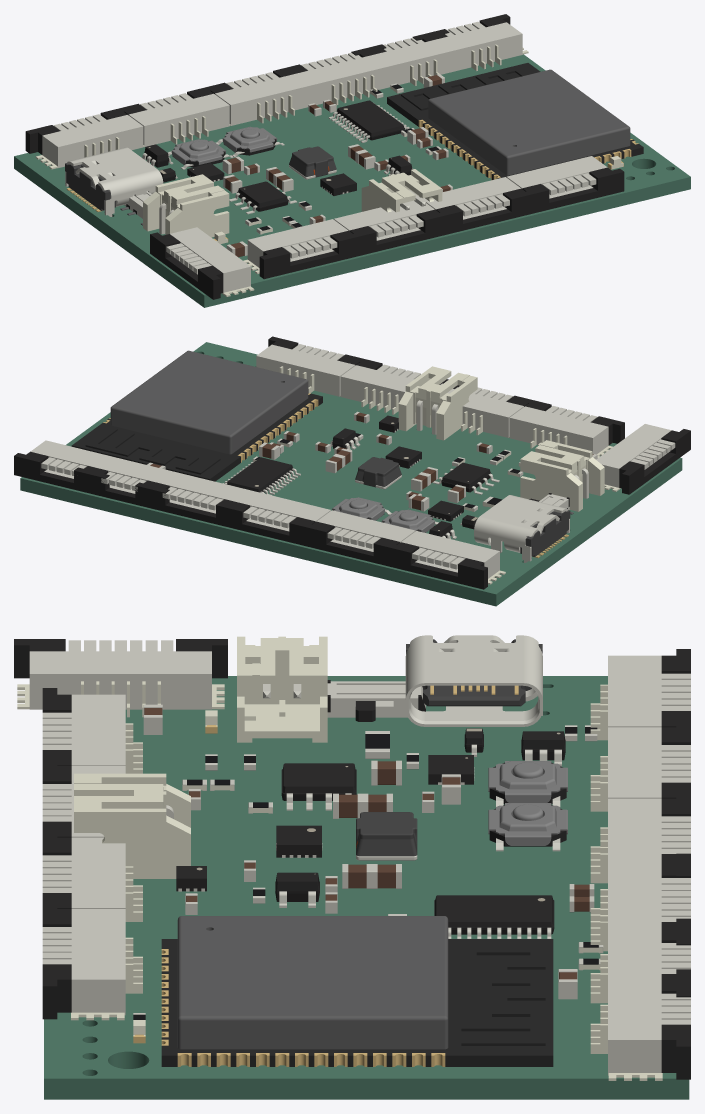
The model's file is petvest-hub.glb.
The picture shows the model from 3 angles, top to bottom: view 1: azimuth 30°, elevation 25°; view 2: azimuth 150°, elevation 25°; view 3: azimuth 270°, elevation 25°; orthographic projection. The views are drawn at different scales.
Parts seen in each view (by area): view 1: =>[0:1:1:46], =>[0:1:1:43] (×7), =>[0:1:1:37], =>[0:1:1:9] (×2), =>[0:1:1:7] (×2), =>[0:1:1:45] (×2), =>[0:1:1:3], =>[0:1:1:39] (×2), =>[0:1:1:41], =>[0:1:1:19], =>[0:1:1:27], =>[0:1:1:25] (+1 smaller); view 2: =>[0:1:1:46], =>[0:1:1:43] (×7), =>[0:1:1:37], =>[0:1:1:7] (×2), =>[0:1:1:9] (×2), =>[0:1:1:45] (×2), =>[0:1:1:3], =>[0:1:1:41], =>[0:1:1:39] (×2), =>[0:1:1:19], =>[0:1:1:27], =>[0:1:1:25] (+2 smaller); view 3: =>[0:1:1:46], =>[0:1:1:37], =>[0:1:1:43] (×7), =>[0:1:1:9] (×2), =>[0:1:1:7] (×2), =>[0:1:1:45] (×2), =>[0:1:1:3], =>[0:1:1:39] (×2), =>[0:1:1:41], =>[0:1:1:5], =>[0:1:1:21] (×4), =>[0:1:1:27] (+7 smaller).
Part boxes in pixels (x1,y1,x2,y2): =>[0:1:1:46]: [14, 54, 690, 307]; =>[0:1:1:43] (×7): [25, 64, 624, 279]; =>[0:1:1:37]: [387, 63, 643, 180]; =>[0:1:1:9] (×2): [150, 44, 398, 299]; =>[0:1:1:7] (×2): [143, 169, 442, 237]; =>[0:1:1:45] (×2): [351, 14, 528, 88]; =>[0:1:1:3]: [65, 147, 163, 216]; =>[0:1:1:39] (×2): [168, 126, 284, 169]; =>[0:1:1:41]: [328, 100, 409, 142]; =>[0:1:1:19]: [229, 181, 296, 214]; =>[0:1:1:27]: [289, 146, 336, 179]; =>[0:1:1:25]: [320, 173, 356, 195]; =>[0:1:1:46]: [20, 342, 682, 606]; =>[0:1:1:43] (×7): [216, 336, 624, 589]; =>[0:1:1:37]: [71, 350, 322, 481]; =>[0:1:1:7] (×2): [398, 366, 604, 511]; =>[0:1:1:9] (×2): [135, 424, 690, 527]; =>[0:1:1:45] (×2): [14, 440, 180, 511]; =>[0:1:1:3]: [474, 495, 570, 562]; =>[0:1:1:41]: [223, 457, 300, 495]; =>[0:1:1:39] (×2): [332, 497, 438, 532]; =>[0:1:1:19]: [432, 462, 499, 494]; =>[0:1:1:27]: [355, 457, 401, 489]; =>[0:1:1:25]: [385, 446, 421, 468]; =>[0:1:1:46]: [44, 676, 689, 1099]; =>[0:1:1:37]: [161, 916, 553, 1066]; =>[0:1:1:43] (×7): [42, 649, 690, 1020]; =>[0:1:1:9] (×2): [14, 639, 690, 951]; =>[0:1:1:7] (×2): [74, 636, 327, 878]; =>[0:1:1:45] (×2): [590, 918, 690, 1080]; =>[0:1:1:3]: [405, 635, 542, 726]; =>[0:1:1:39] (×2): [488, 761, 567, 851]; =>[0:1:1:41]: [434, 895, 554, 938]; =>[0:1:1:5]: [327, 680, 425, 721]; =>[0:1:1:21] (×4): [333, 760, 401, 888]; =>[0:1:1:27]: [356, 812, 417, 860].
Size of the model in its own units: 0.0628 by 0.00825 by 0.0441.
